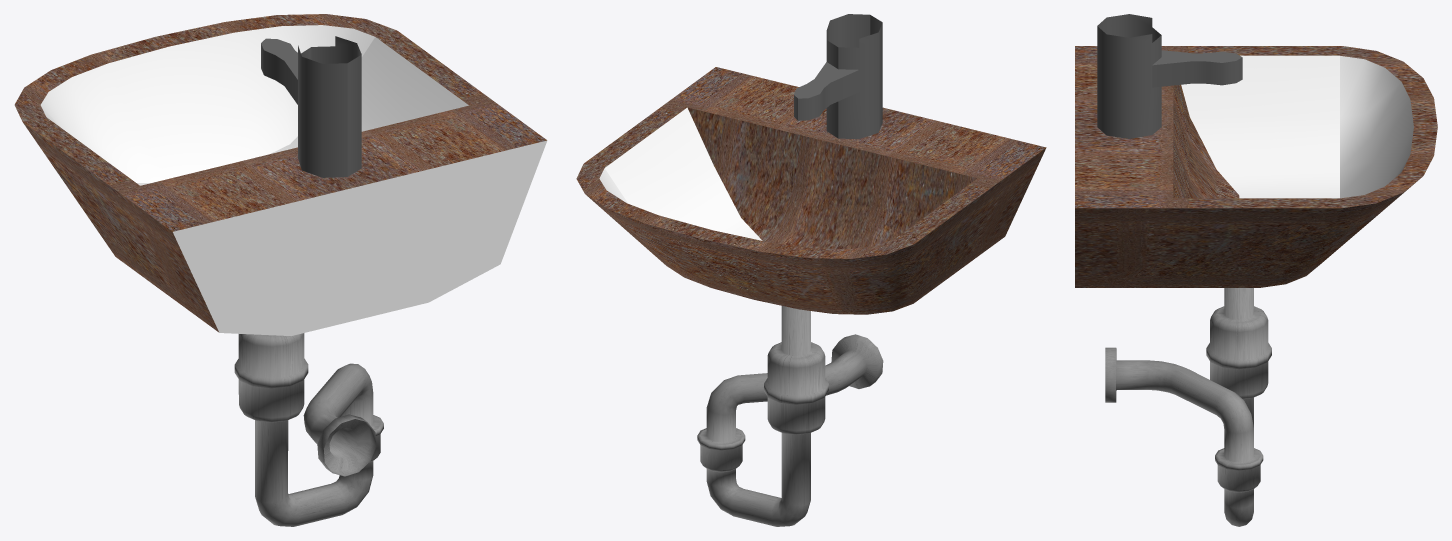
Rendered from lavamanos.glb.
The picture shows the model from 3 angles, left to right: view 1: azimuth 30°, elevation 25°; view 2: azimuth 150°, elevation 25°; view 3: azimuth 270°, elevation 25°; orthographic projection. The views are drawn at different scales.
Parts seen in each view (by area): view 1: Object_14.005; view 2: Object_14.005; view 3: Object_14.005.
Part boxes in pixels (<box>): Object_14.005: <box>14,14,547,526</box>; Object_14.005: <box>576,14,1046,526</box>; Object_14.005: <box>1075,14,1437,526</box>.
Bounding box in the file's own units: 0.522 × 0.7006 × 0.4925.
Materials: 4 (2 with a texture image).
